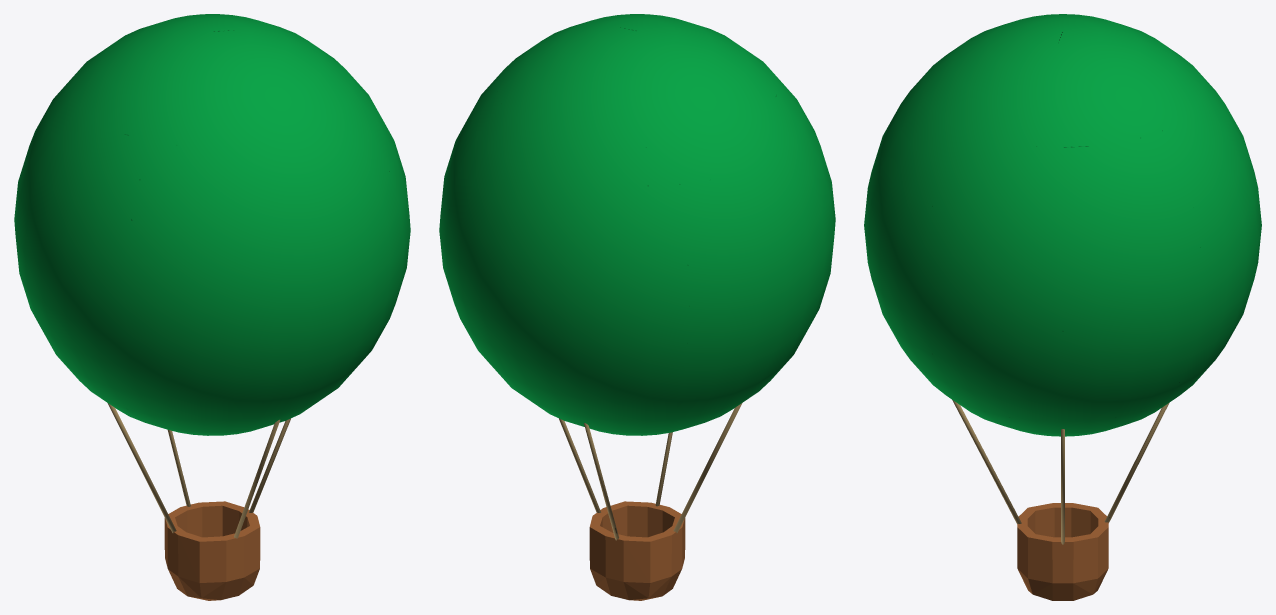
Rendered from ballon.obj.
The picture shows the model from 3 angles, left to right: view 1: azimuth 30°, elevation 25°; view 2: azimuth 150°, elevation 25°; view 3: azimuth 270°, elevation 25°; orthographic projection.
Visible parts, largest first — view 1: Cube; view 2: Cube; view 3: Cube.
Boxes of the visible parts, box(x1,y1,x2,y2) form: Cube: box(14, 14, 410, 600); Cube: box(439, 14, 835, 600); Cube: box(864, 14, 1261, 600).
Bounding box in the file's own units: 29.3 × 45.87 × 29.3.
